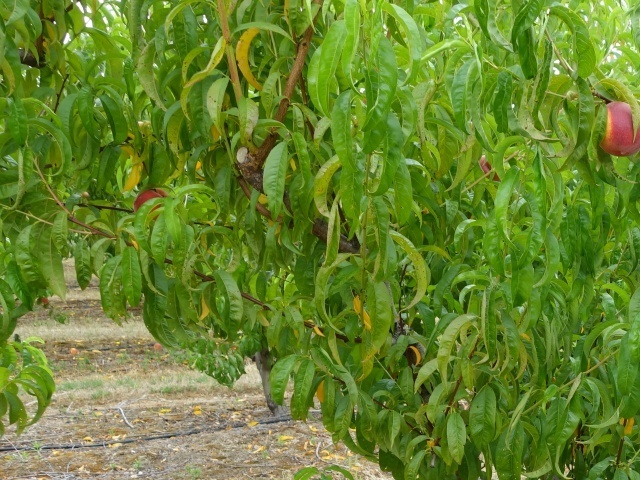peach: (593, 97, 640, 159), (127, 182, 174, 220)
